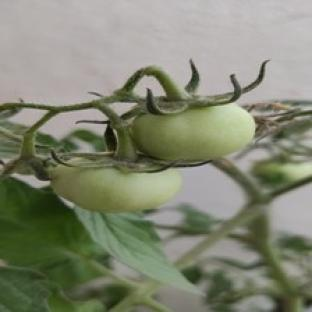Tomato: (131, 104, 254, 161), (51, 165, 182, 213), (253, 161, 311, 185)
